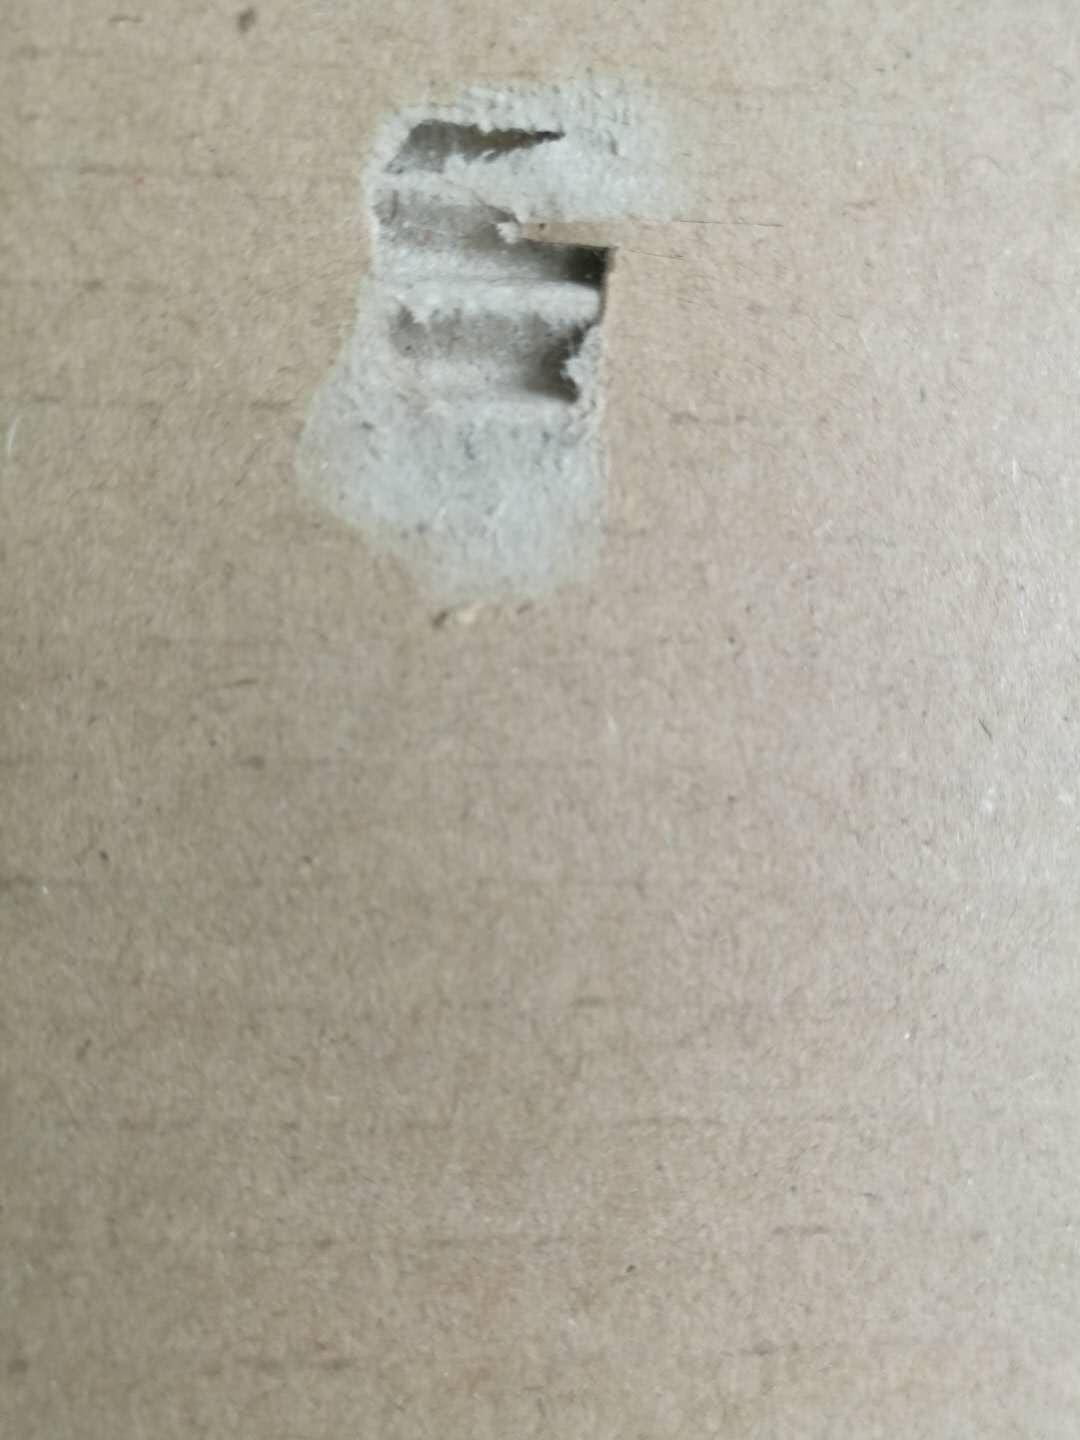defect: (255, 45, 712, 681)
